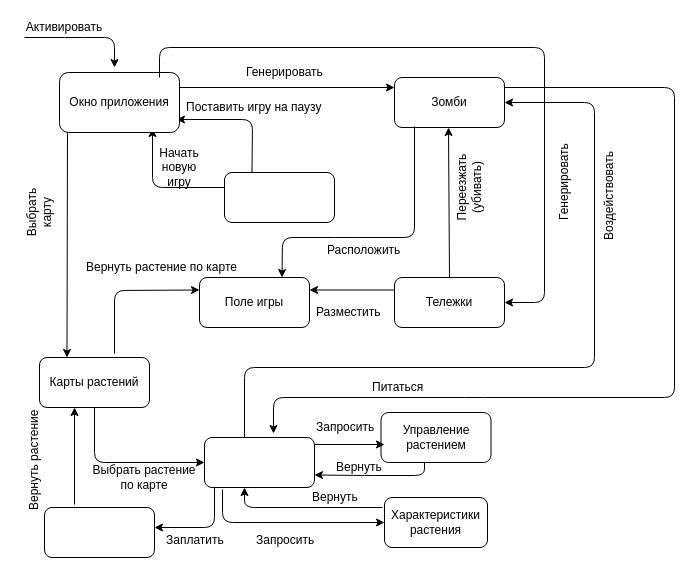
The diagram is 700 pixels wide and 575 high, and some of its shapes have lost their labels. Each missing label, with the centre of its shape:
"Кнопка паузы" belongs at [279,197].
"Растения" belongs at [259,462].
"Финансы" belongs at [99,532].
